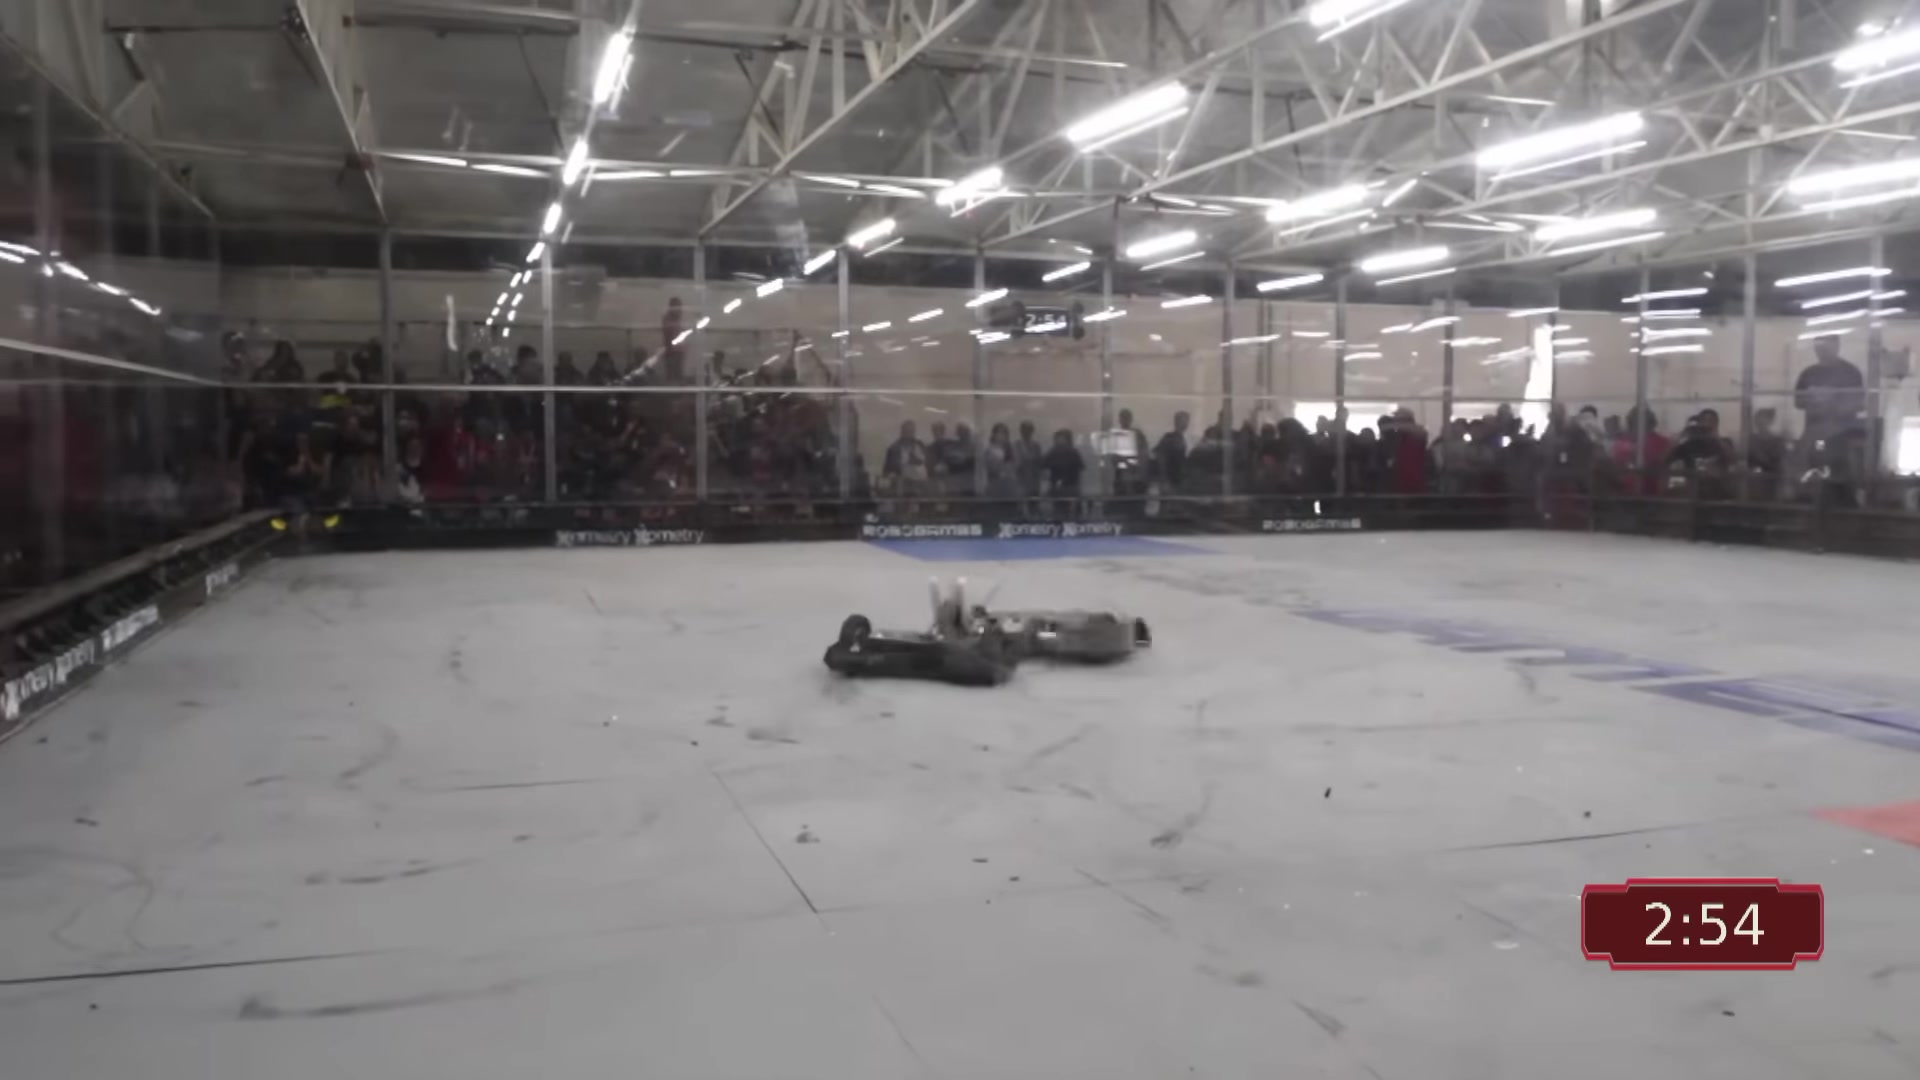combatbot: (825, 574, 1021, 687), (993, 611, 1153, 669)
